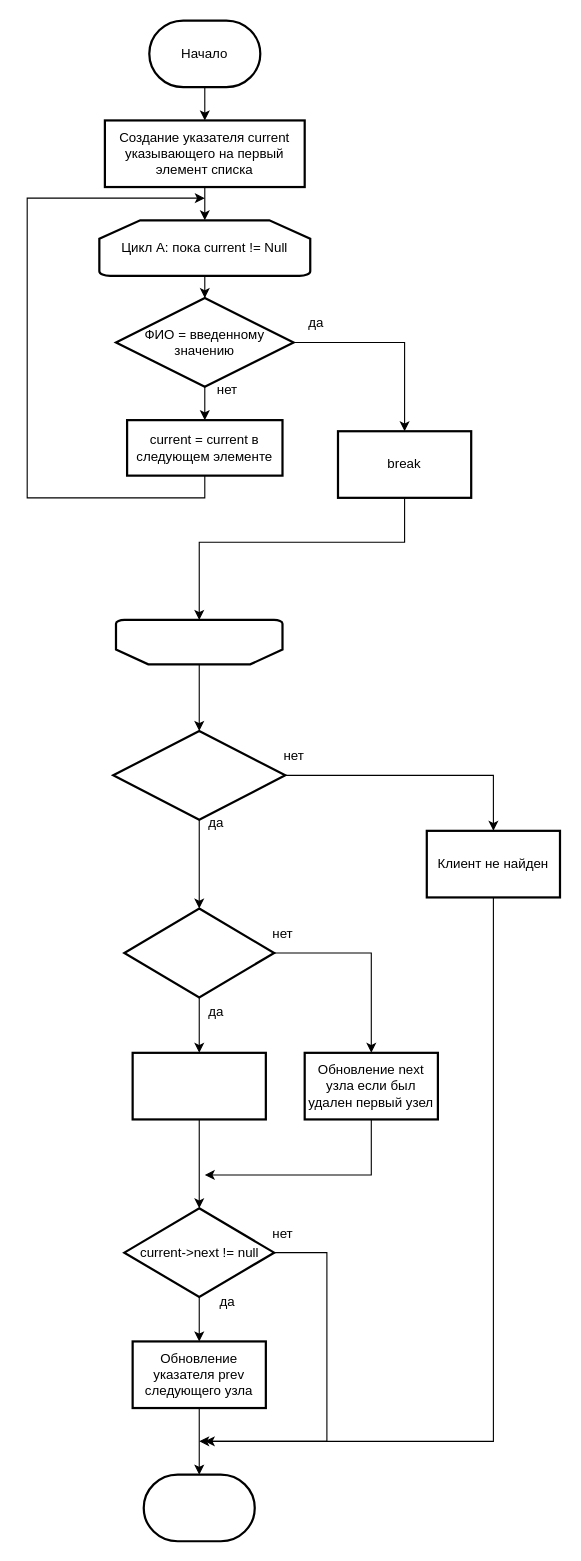
Some shapes in this 581 by 1561 pixel diagram are drawn without their labels. The shapes that lost their labels are listed below. From the top down, each one's box as (x1, y1, x2, y2) in pixels, then its label:
(114, 618, 283, 665): Цикл А
(112, 729, 286, 820): Current = null
(123, 907, 275, 998): current->prev != null
(131, 1051, 266, 1120): Обновление указателя next предыдущего узла
(142, 1473, 255, 1542): Конец
